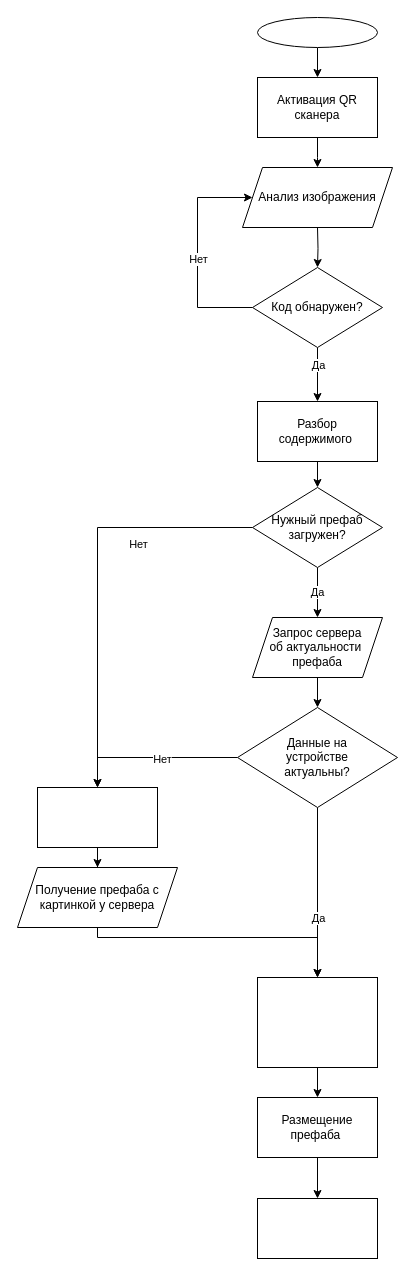
The diagram is 415 pixels wide and 1276 high, and some of its shapes have lost their labels. The shapes that lost their labels are listed below. From the top down, each one's centre as x and y in pixels, then its label:
At [317,32]: "Начало работы".
At [97,817]: "Размещается заглушка".
At [317,1022]: "Добавление картинки в библиотеку для трекинга изображений".
At [317,1228]: "Трекинг".
